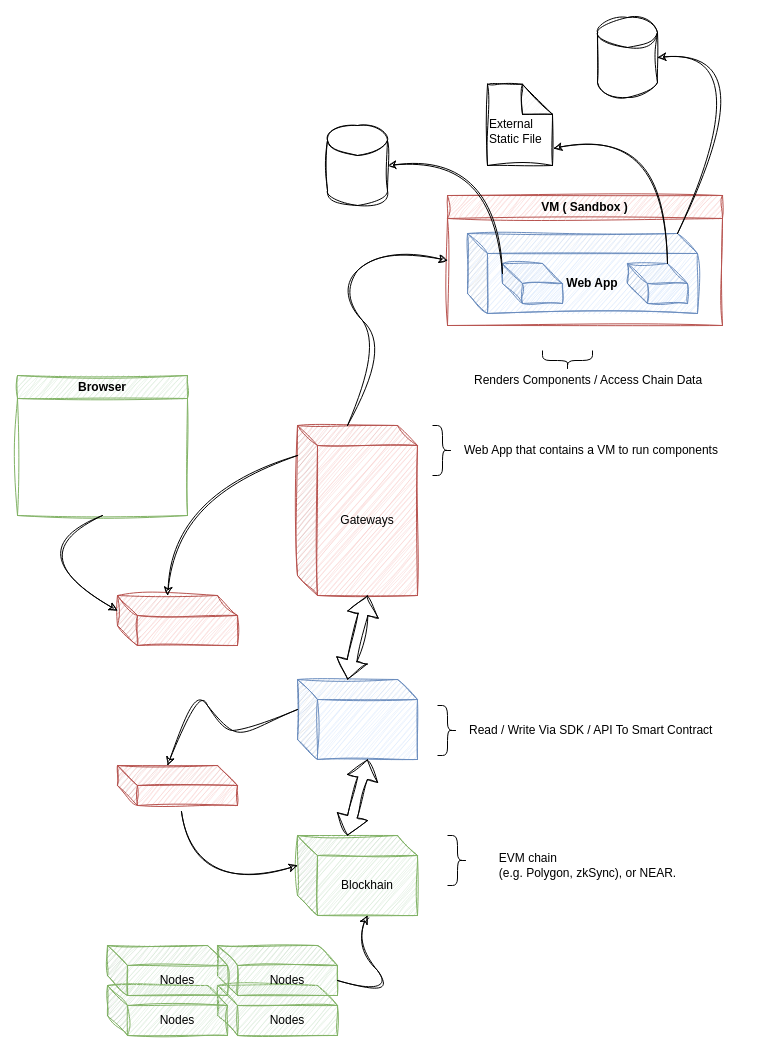
Some shapes in this 760 by 1053 pixel diagram are drawn without their labels. Each missing label, with the centre of its shape:
"Components" goes at point (357, 719).
"External API" goes at point (357, 165).
"HTTP Host" goes at point (177, 620).
"Relay API" goes at point (627, 57).
"Smart Contract" goes at point (177, 785).
